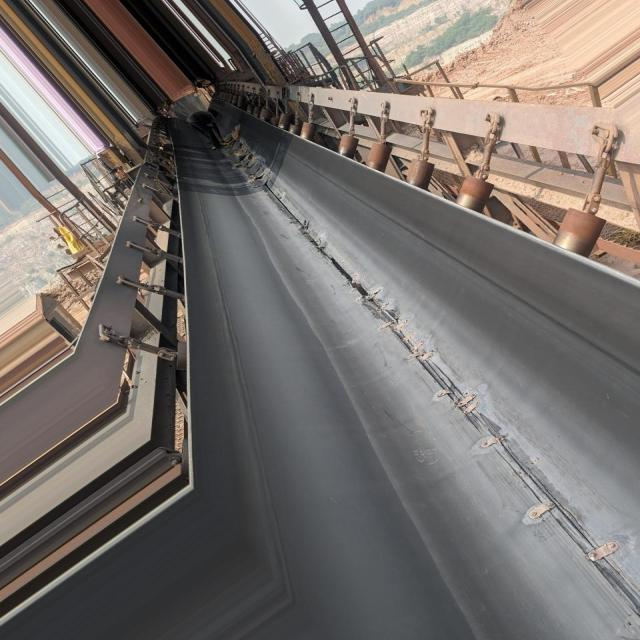Human: (188, 109, 221, 147)
Roller: (210, 90, 611, 258)
Tear: (267, 191, 432, 357)
patch work: (419, 361, 625, 582), (225, 133, 271, 187)
